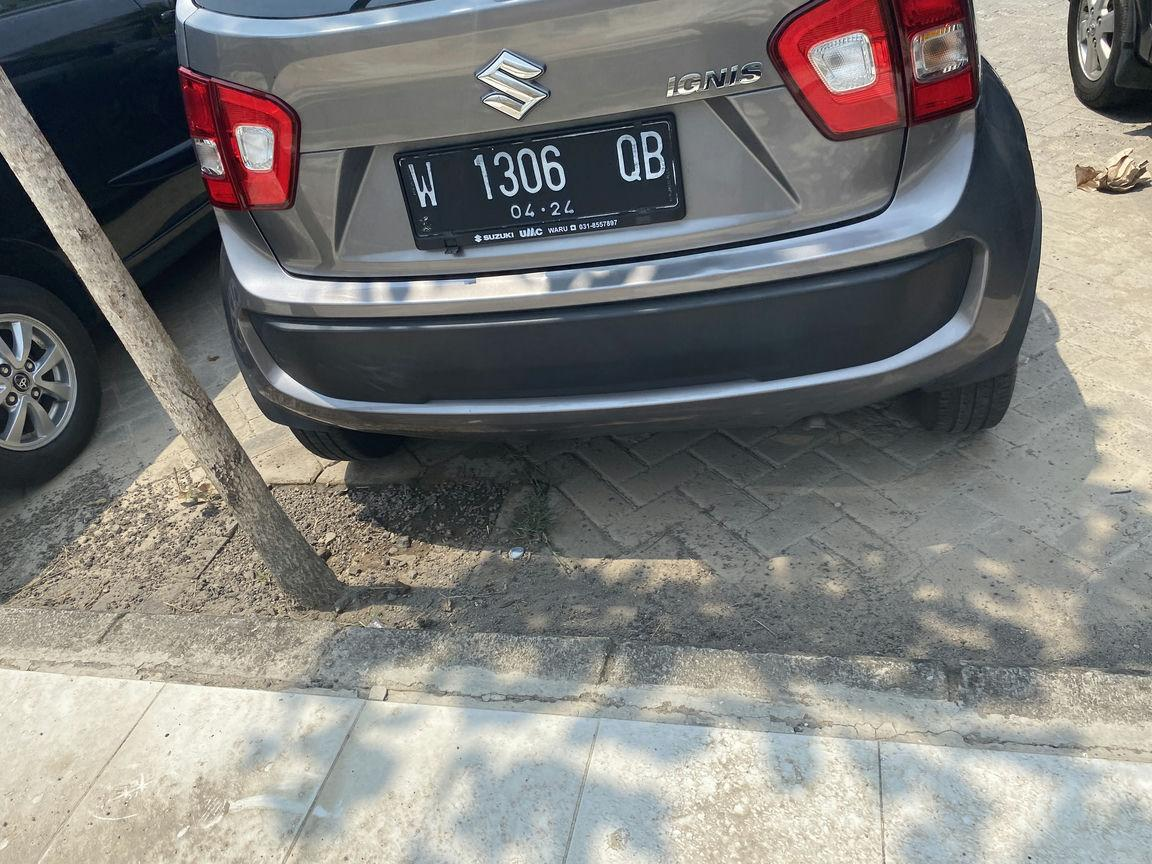plat: (396, 115, 686, 252)
